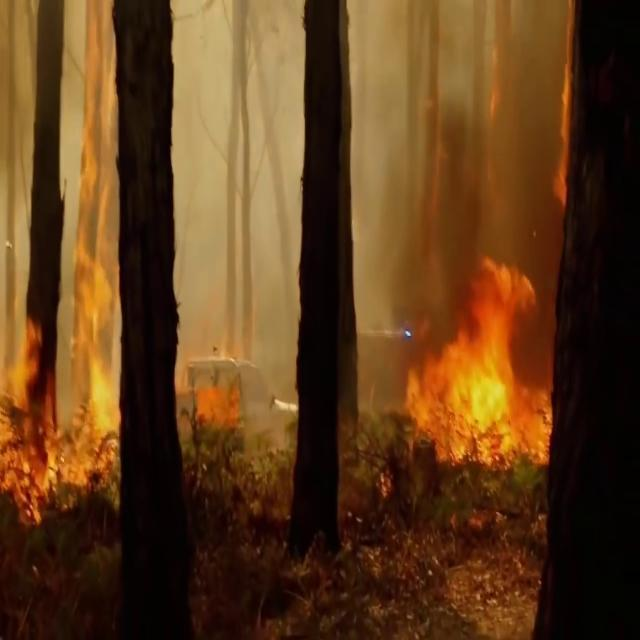Fire: (0, 0, 128, 519), (400, 244, 552, 466), (188, 318, 256, 458)
Smoke: (349, 1, 553, 310)
